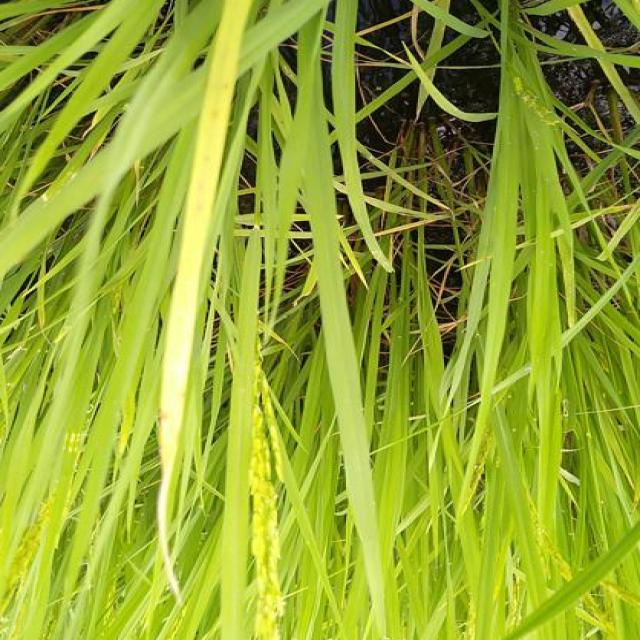Leaf Blight: (159, 0, 259, 534)
